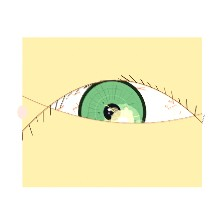corneal_ulcer: (103, 105, 141, 135)
